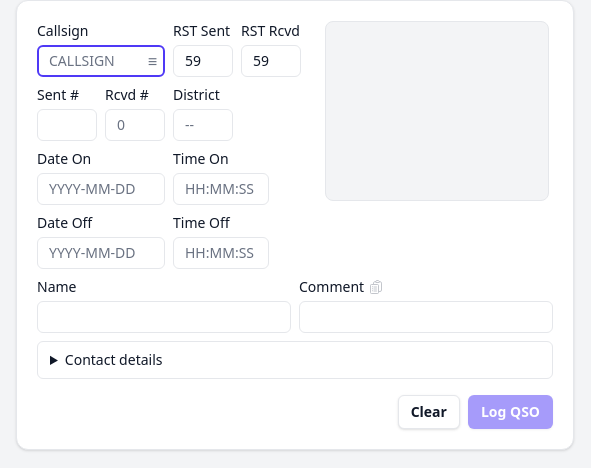
LoggingCard: contest exchange › names a valid district beside the field, so a mis-hear shows
Type "ox" into the field labelled "District" at [203, 125], box [173,109,233,141]
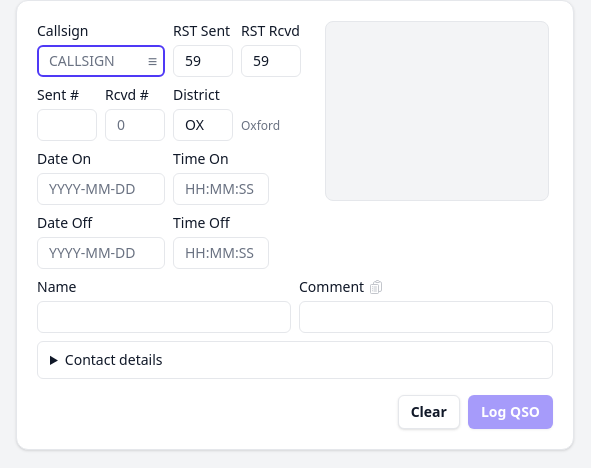
Expected: the text with test id "district-name" reads "Oxford", [241,116,280,134]
Replace the text in the field labelled "District" with "QQ" at [203, 125], box [173,109,233,141]
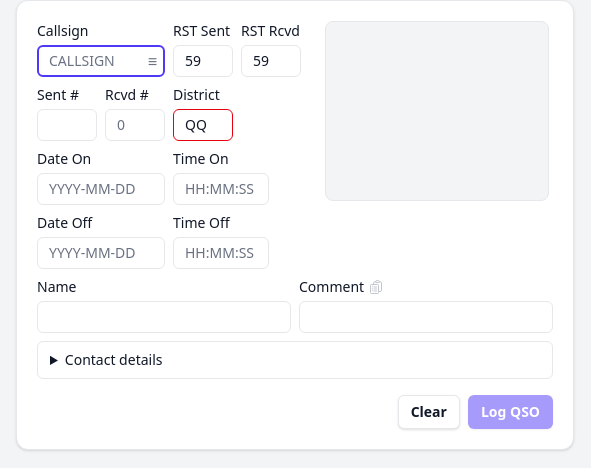
Expected: the text with test id "district-name" is gone
